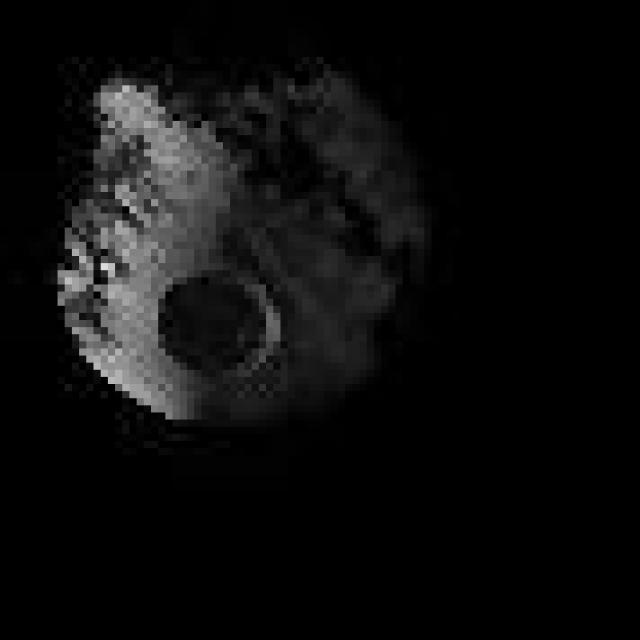Death Star: (43, 43, 439, 448)
